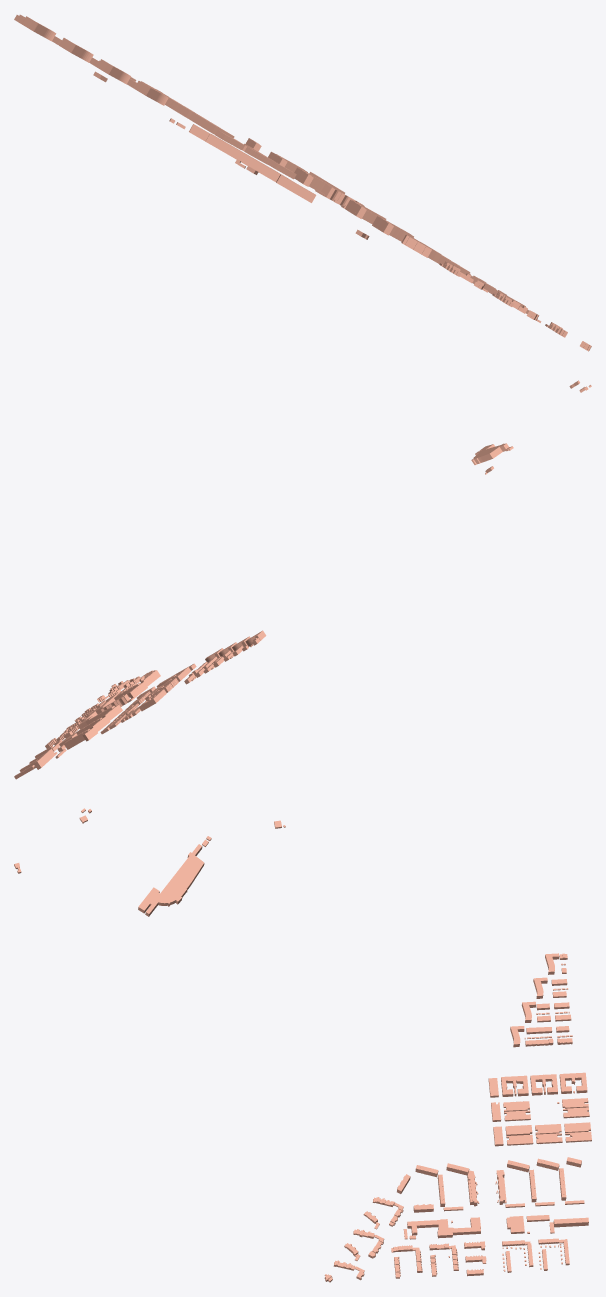
3 renders of one model, top to bottom at view 1: azimuth 30°, elevation 25°; view 2: azimuth 150°, elevation 25°; view 3: azimuth 270°, elevation 25°, orthographic. The views are drawn at different scales.
Bounding box in the file's own units: 898 × 724 × 1257.
